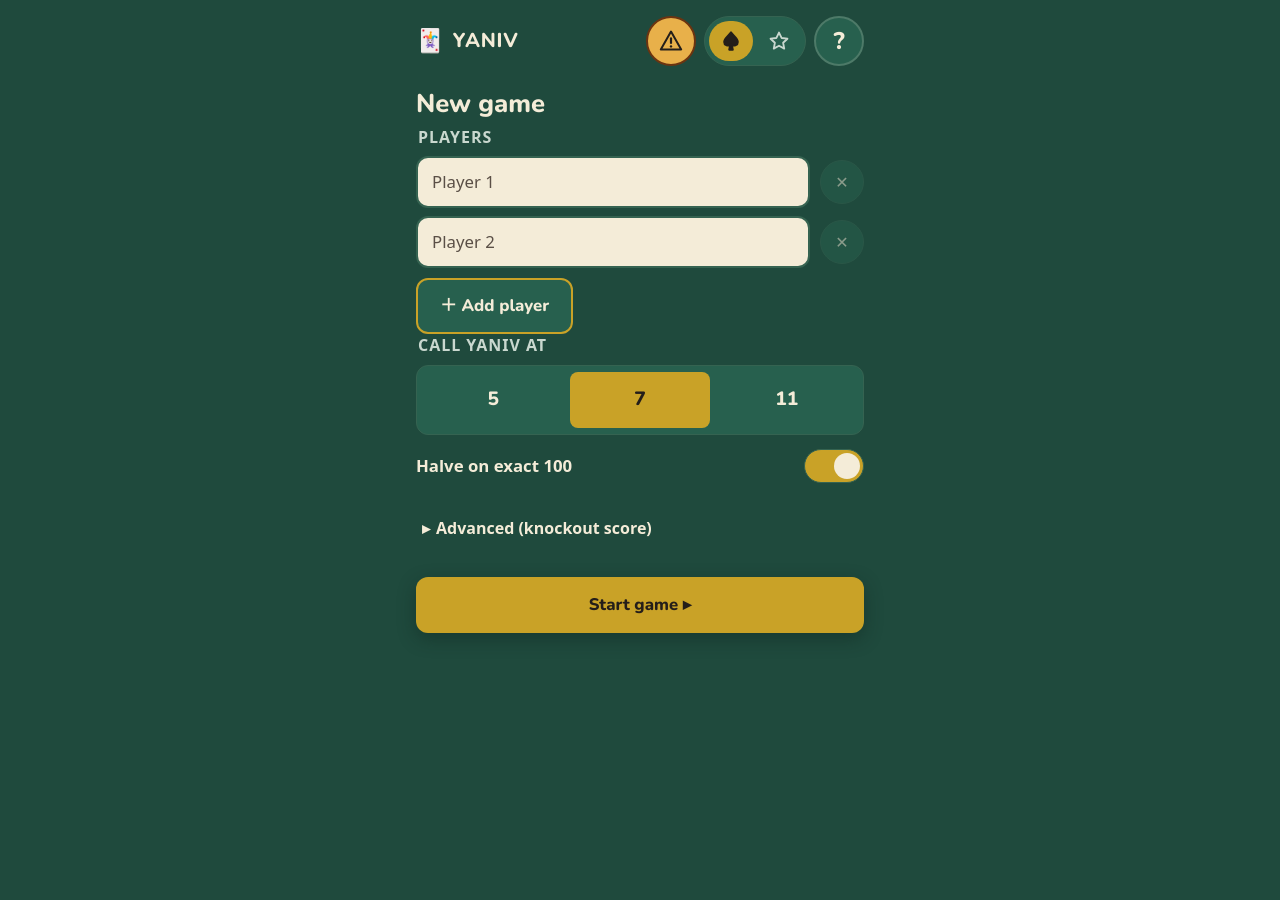
Help — content of both tabs › shows How to Use content by default and How to Play after switching tabs
The image size is (1280, 900).
What coordinates should you click on to do the following:
click the button named "Help"
I would click on:
 (839, 41)
Its box is [814,16,864,66].
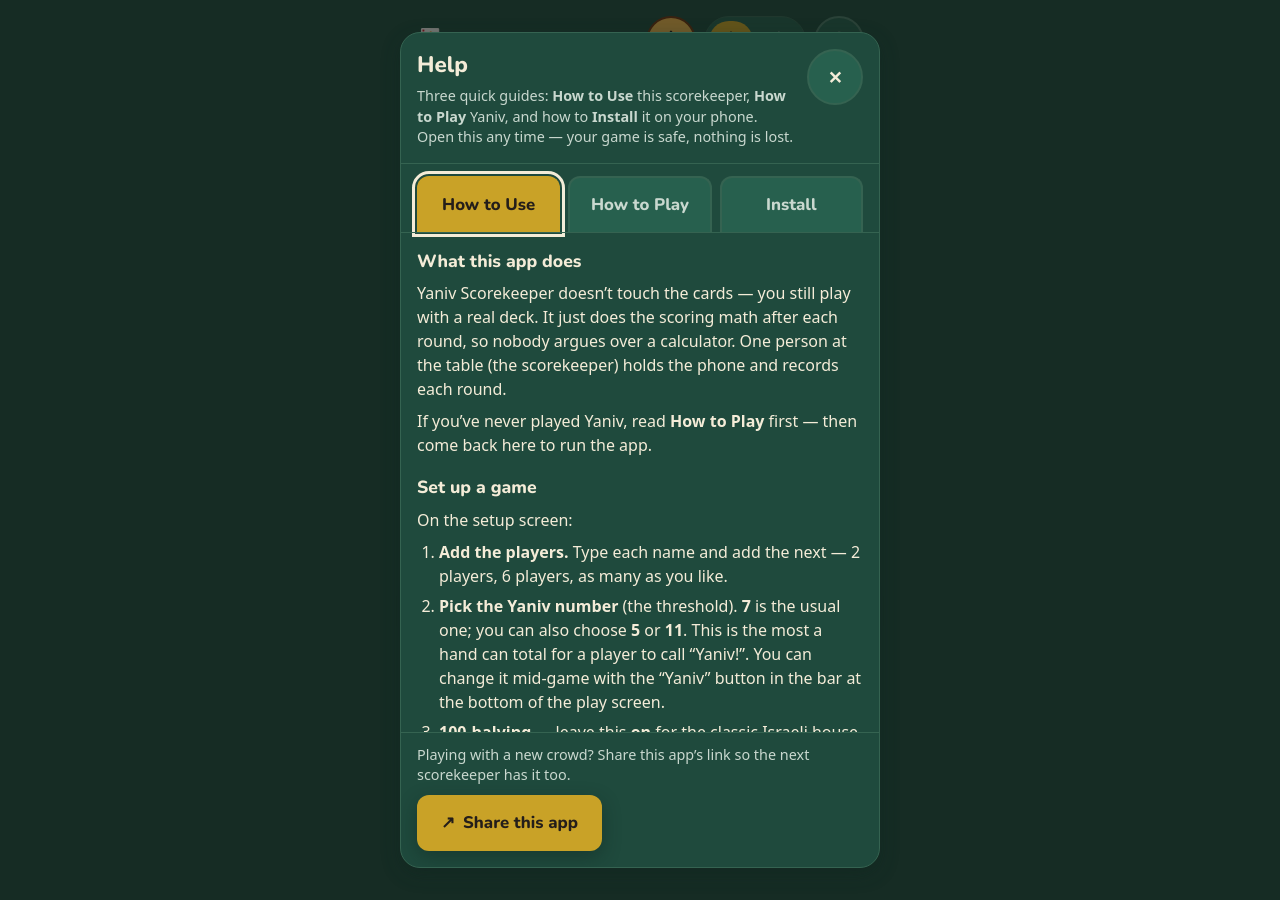
Result: the text "doesn’t touch the cards" is shown at [417,282,851,400]
Result: the heading "Set up a game" is shown at [417,476,537,500]
Note: Switch to How to Play — rules content, incl. the worked example.
What coordinates should you click on to do the following:
click the tab "How to Play"
I would click on:
 (640, 204)
Its box is [568,176,712,232].
(page scrolled)
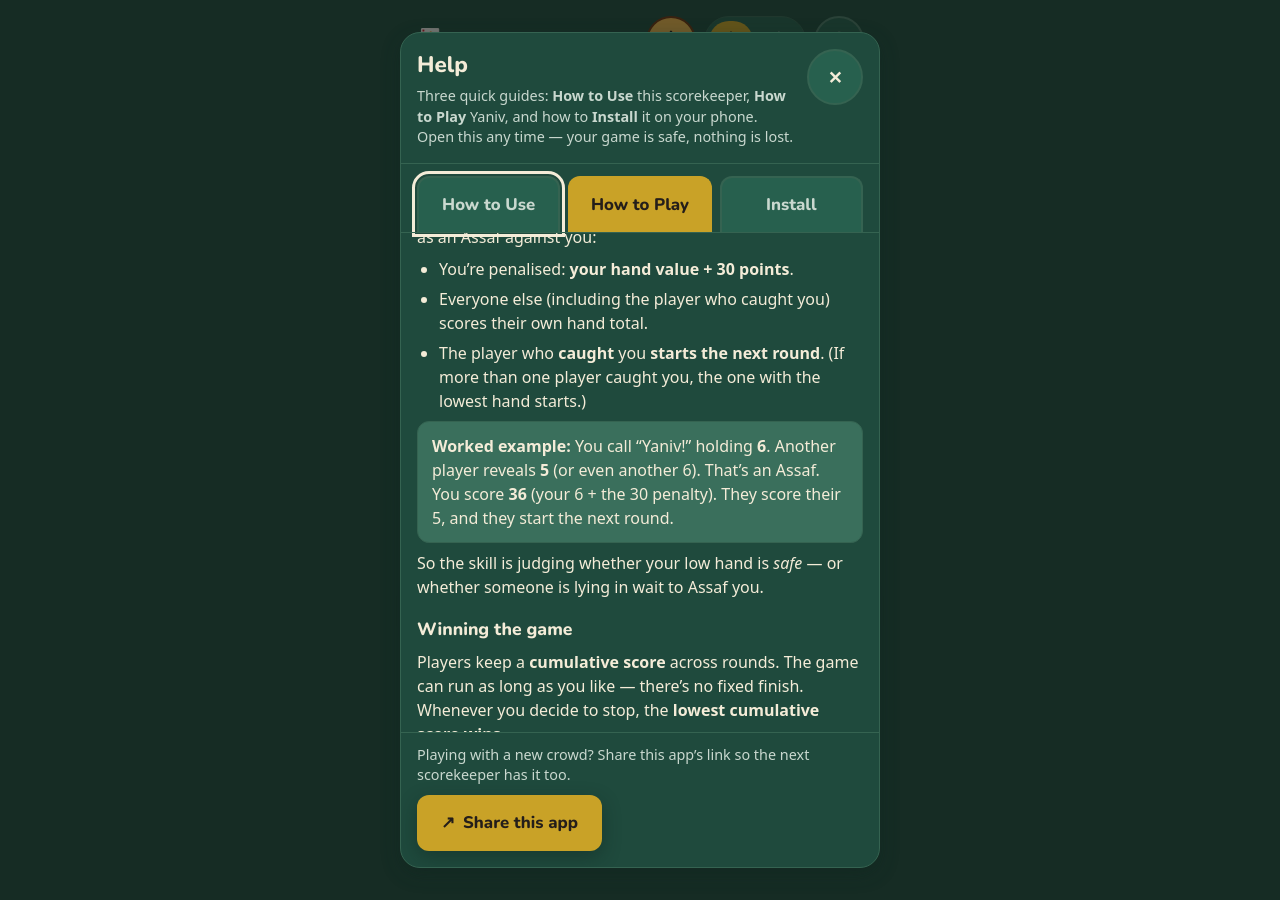
Result: the text "your 6 + the 30 penalty" is shown at [432,483,841,529]
